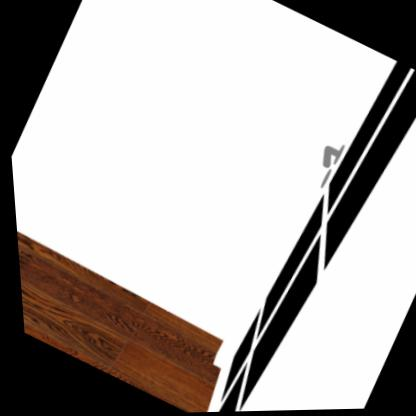Wooden floor: (14, 232, 217, 413)
